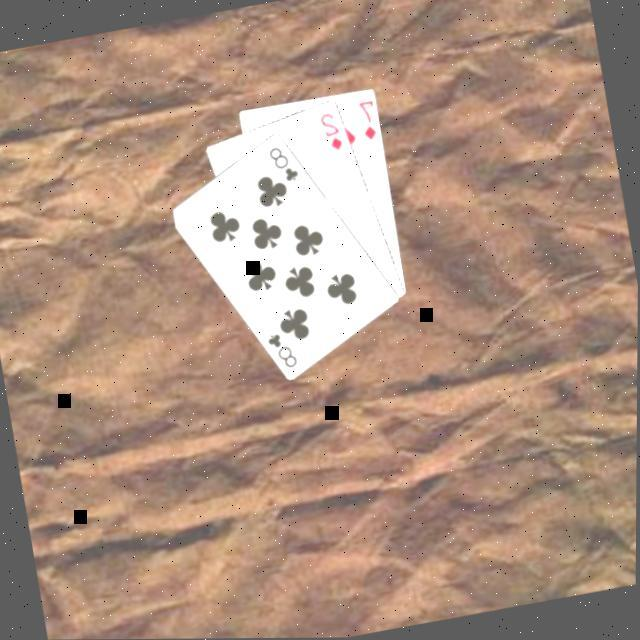2D: (314, 107, 344, 154)
7D: (353, 96, 379, 144)
8C: (262, 139, 301, 186), (261, 326, 300, 373)
